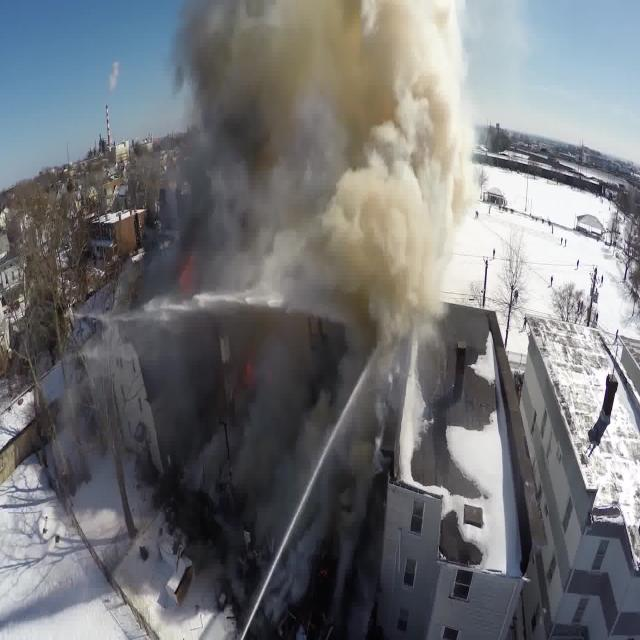smoke: (205, 6, 446, 259)
